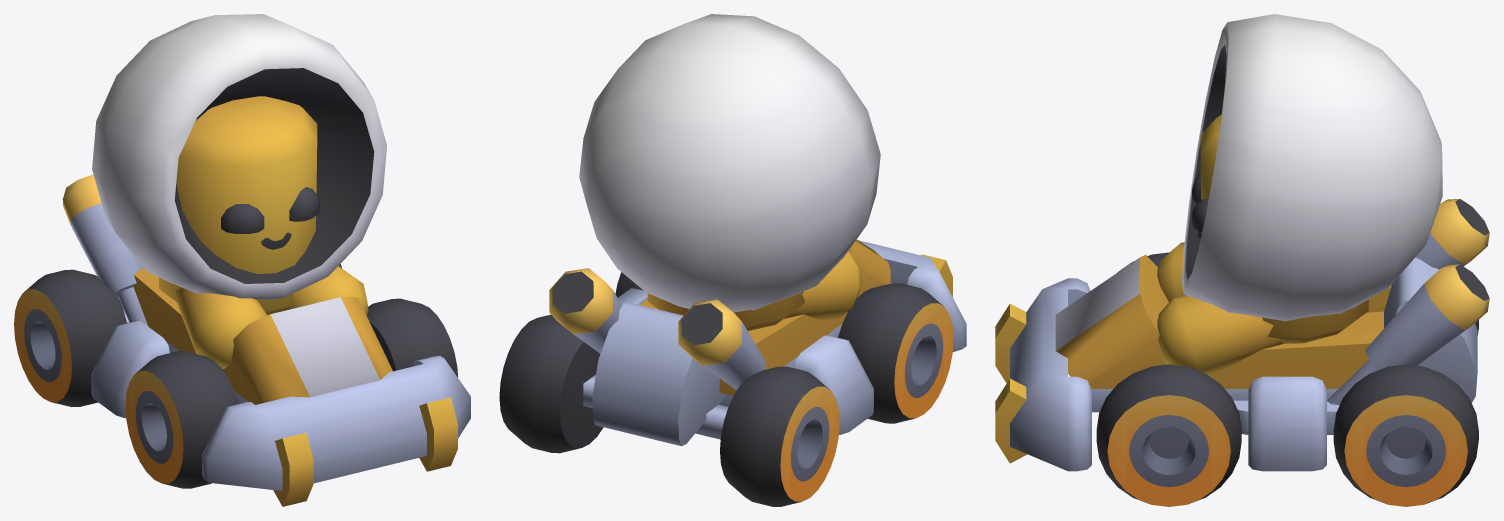
Rendered from k-car-kart-ooli.glb.
The picture shows the model from 3 angles, left to right: view 1: azimuth 30°, elevation 25°; view 2: azimuth 150°, elevation 25°; view 3: azimuth 270°, elevation 25°; orthographic projection. The views are drawn at different scales.
Parts seen in each view (by area): view 1: character, kart-ooli, wheel-back-right, wheel-front-right, wheel-front-left; view 2: character, kart-ooli, wheel-back-right, wheel-front-right, wheel-back-left; view 3: character, kart-ooli, wheel-front-left, wheel-back-left.
Part boxes in pixels (x1,y1,x2,y2): character: (92,14,386,368); kart-ooli: (62,174,470,506); wheel-back-right: (14,269,126,406); wheel-front-right: (125,351,238,488); wheel-front-left: (366,298,457,377); character: (579,14,880,330); kart-ooli: (549,239,966,446); wheel-back-right: (720,366,839,506); wheel-front-right: (838,283,953,423); wheel-back-left: (499,314,603,453); character: (1157,14,1442,375); kart-ooli: (995,199,1489,471); wheel-front-left: (1096,364,1241,506); wheel-back-left: (1333,364,1478,506).
Size of the model in its own units: 0.9743 by 1.33 by 1.43.
Materials: 1 (1 with a texture image).
